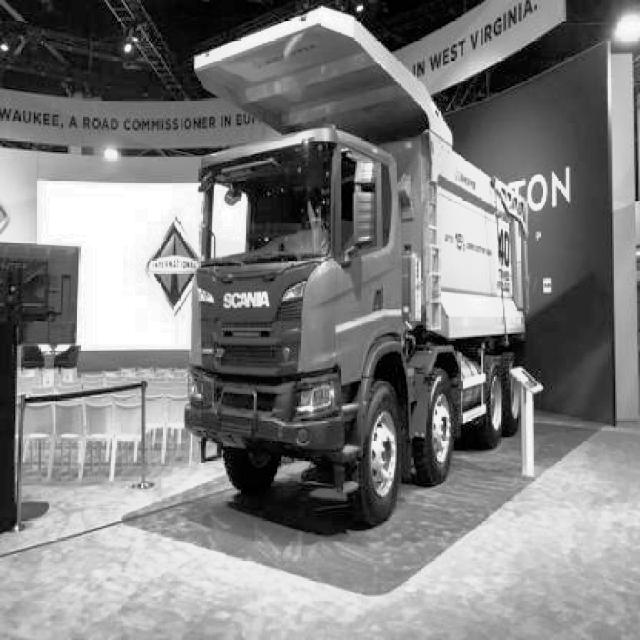HCV: (165, 23, 537, 499)
